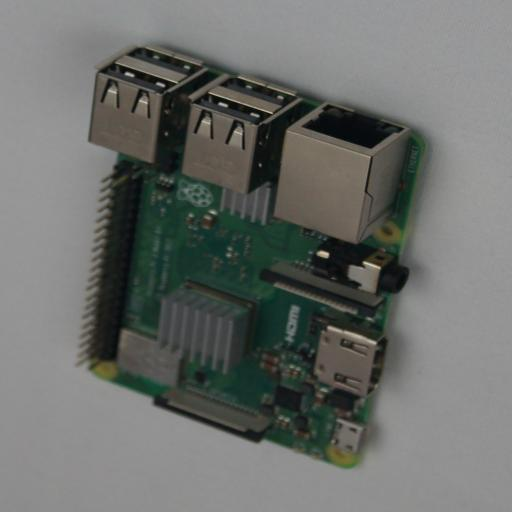Raspberry Pi 3 B-: (81, 44, 431, 468)
